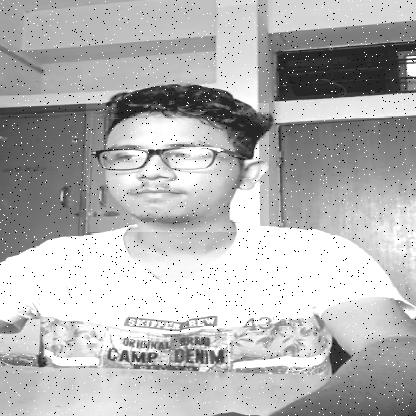Normal: (86, 103, 269, 232)
